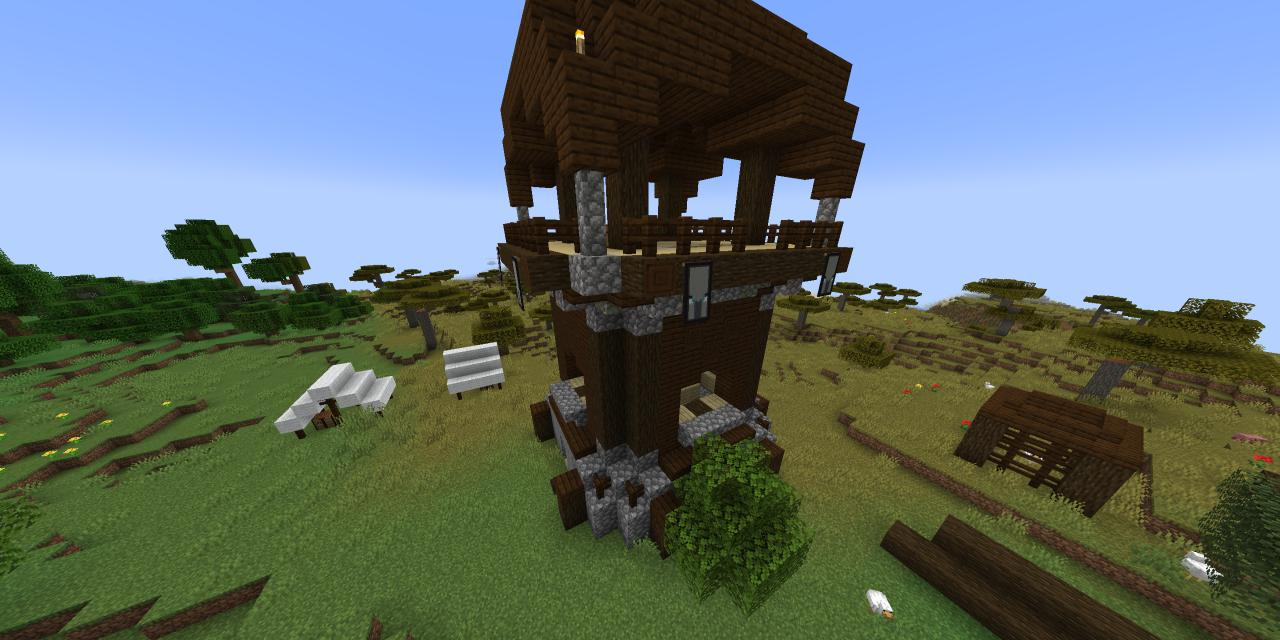pillager outpost: (497, 0, 869, 571)
